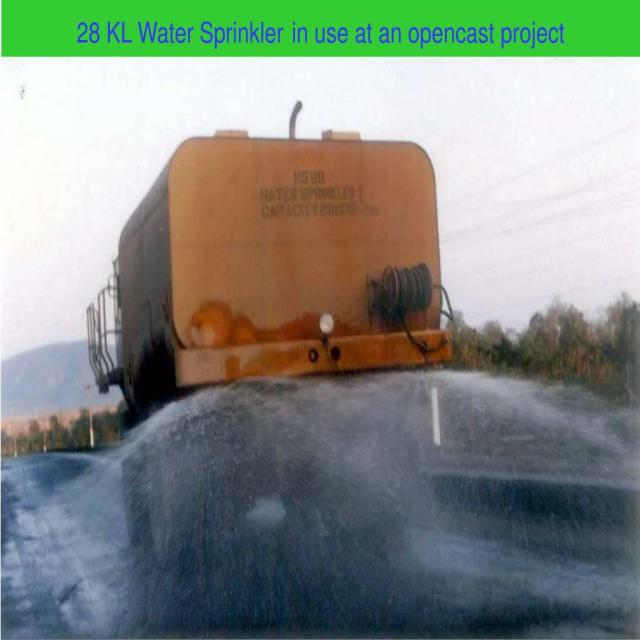dump_truck: (89, 130, 453, 399)
